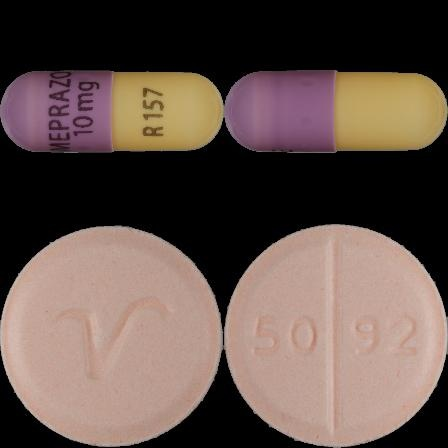33261-117: (0, 0, 224, 224)
